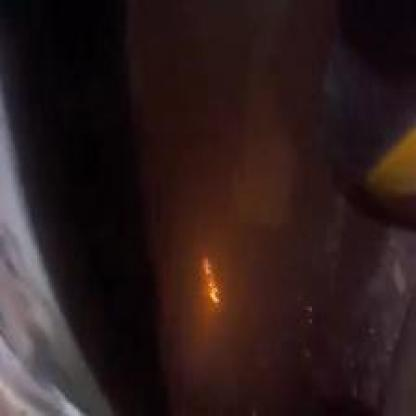fire: (198, 254, 223, 306)
